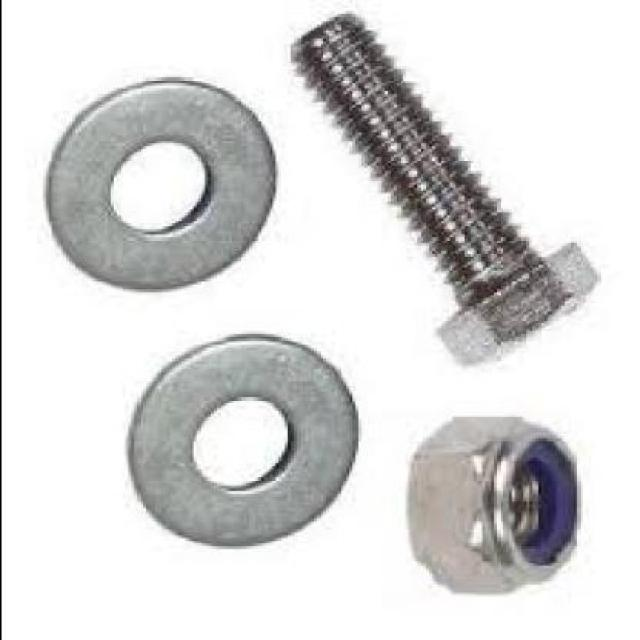METAL: (292, 8, 602, 364), (129, 331, 360, 546), (47, 75, 278, 290), (407, 413, 584, 593)
